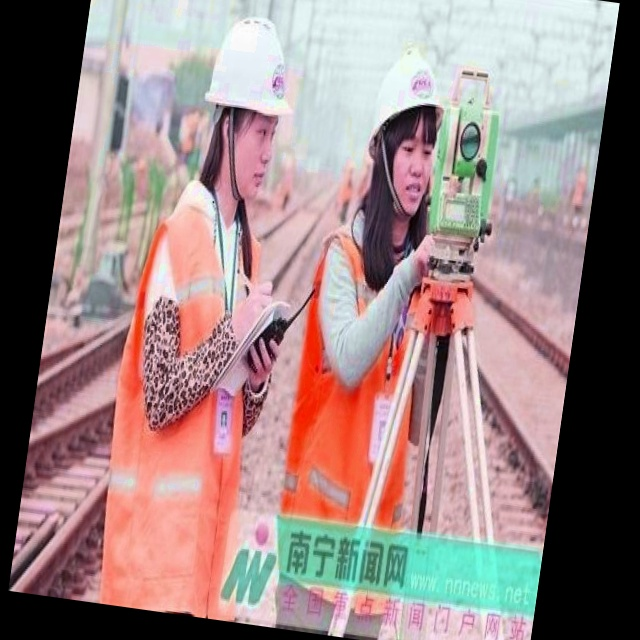Con_Casco: (196, 5, 298, 192), (361, 48, 449, 215)
